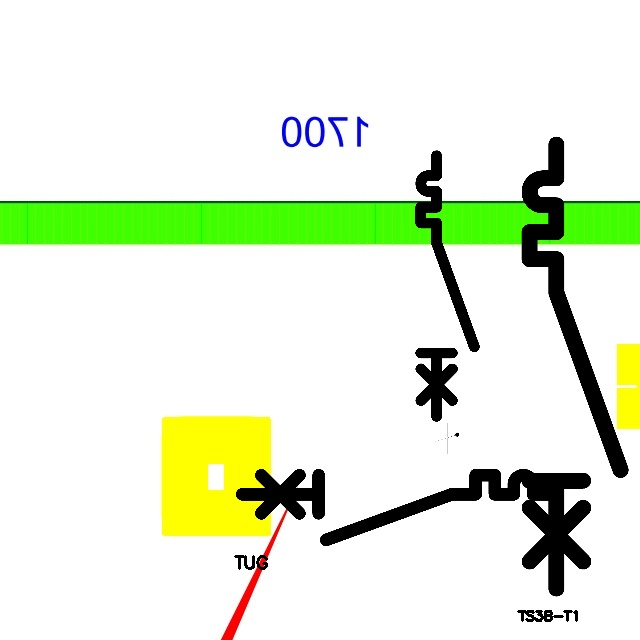interruptor_termomagnetico: (518, 133, 632, 600), (234, 467, 565, 548), (414, 149, 481, 423)
